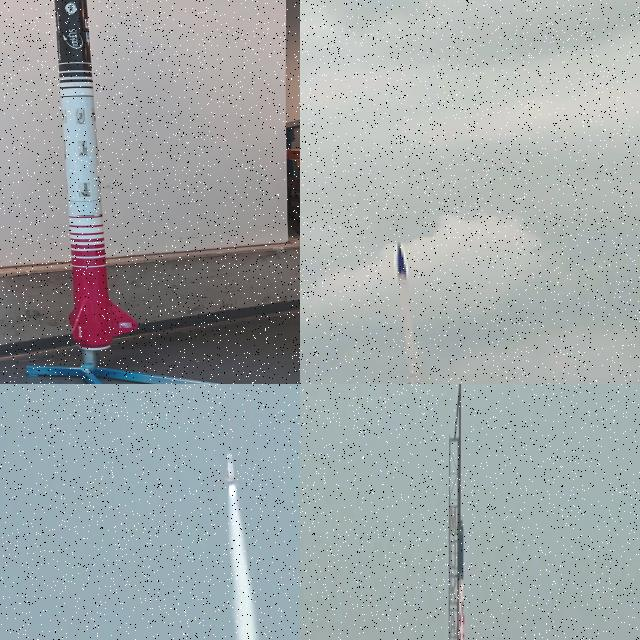Rocket: (53, 0, 138, 350), (394, 241, 427, 384), (453, 521, 468, 640), (225, 452, 238, 492)
